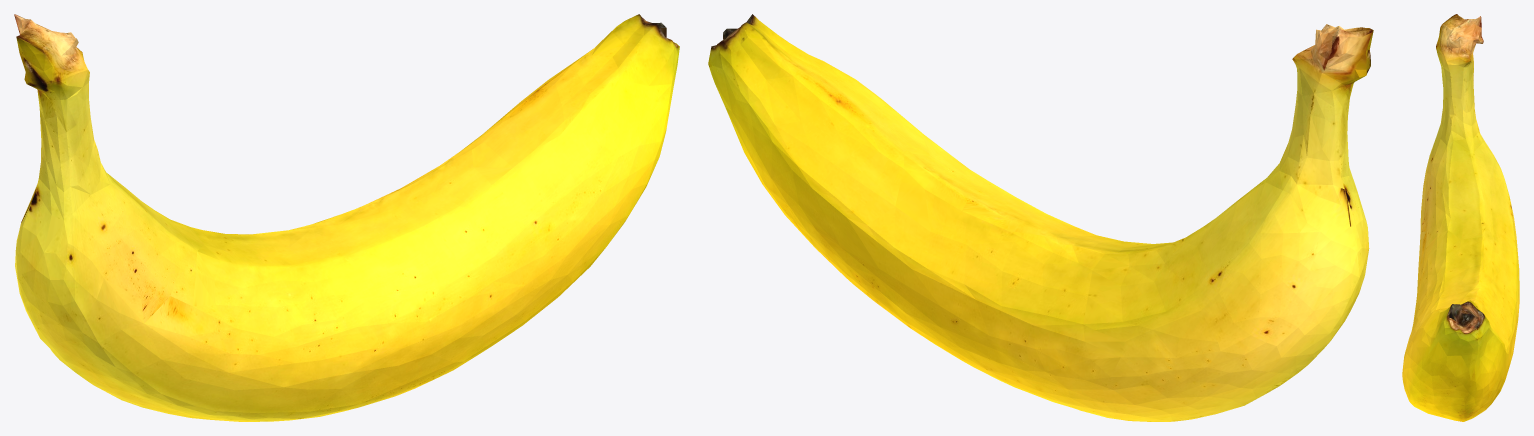
The model's file is banana-v1-transformed.glb.
3 renders of one model, left to right at view 1: azimuth 30°, elevation 25°; view 2: azimuth 150°, elevation 25°; view 3: azimuth 270°, elevation 25°, orthographic. The views are drawn at different scales.
Parts seen in each view (by area): view 1: banana; view 2: banana; view 3: banana.
Boxes of the visible parts, x1,y1,x2,y2 form: banana: [14, 14, 679, 421]; banana: [708, 14, 1373, 421]; banana: [1402, 14, 1519, 421].
Size of the model in its own units: 6.79 by 4.43 by 1.62.
Materials: 1 (1 with a texture image).
